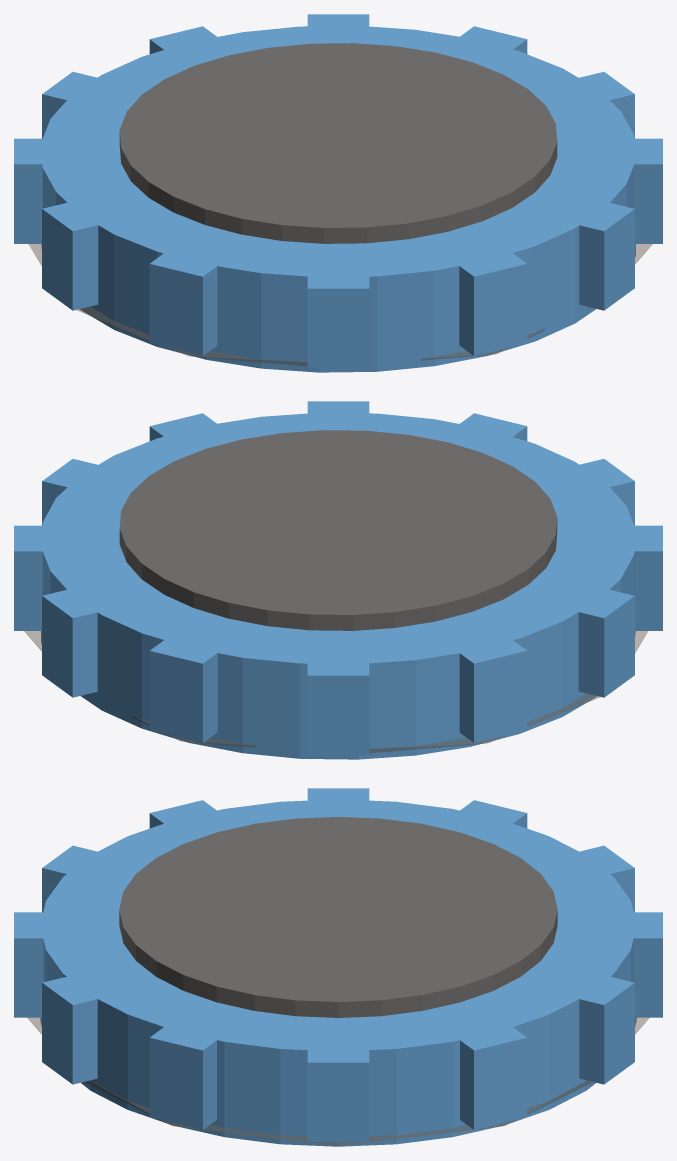
Rendered from env_bottle_cap_blue_v1.glb.
The picture shows the model from 3 angles, top to bottom: view 1: azimuth 30°, elevation 25°; view 2: azimuth 150°, elevation 25°; view 3: azimuth 270°, elevation 25°; orthographic projection.
Parts seen in each view (by area): view 1: cap_outer_rim, cap_inner_recess, cap_ridge_03, cap_ridge_05, cap_ridge_04, cap_ridge_06, cap_ridge_02, cap_ridge_07, cap_ridge_01, cap_shadow, cap_ridge_08, cap_ridge_00 (+3 smaller); view 2: cap_outer_rim, cap_inner_recess, cap_ridge_09, cap_ridge_07, cap_ridge_08, cap_ridge_06, cap_ridge_10, cap_ridge_05, cap_ridge_11, cap_shadow, cap_ridge_04, cap_ridge_00 (+3 smaller); view 3: cap_outer_rim, cap_inner_recess, cap_ridge_01, cap_ridge_11, cap_ridge_00, cap_ridge_10, cap_ridge_02, cap_ridge_03, cap_ridge_09, cap_shadow, cap_ridge_04, cap_ridge_08 (+3 smaller).
Part boxes in pixels (box(x1,y1,x2,y2)): cap_outer_rim: box(41, 25, 635, 372); cap_inner_recess: box(119, 43, 557, 243); cap_ridge_03: box(457, 252, 527, 355); cap_ridge_05: box(149, 253, 217, 355); cap_ridge_04: box(307, 273, 369, 367); cap_ridge_06: box(42, 202, 102, 310); cap_ridge_02: box(579, 201, 634, 310); cap_ridge_07: box(14, 138, 48, 243); cap_ridge_01: box(628, 138, 662, 243); cap_shadow: box(28, 244, 652, 368); cap_ridge_08: box(42, 72, 96, 138); cap_ridge_00: box(574, 72, 634, 138); cap_outer_rim: box(41, 412, 635, 759); cap_inner_recess: box(119, 430, 557, 630); cap_ridge_09: box(149, 638, 219, 742); cap_ridge_07: box(458, 640, 527, 742); cap_ridge_08: box(307, 660, 369, 754); cap_ridge_06: box(574, 589, 634, 697); cap_ridge_10: box(42, 588, 97, 697); cap_ridge_05: box(628, 525, 662, 630); cap_ridge_11: box(14, 525, 48, 630); cap_shadow: box(24, 631, 648, 755); cap_ridge_04: box(580, 459, 634, 525); cap_ridge_00: box(42, 459, 102, 525); cap_outer_rim: box(40, 799, 636, 1146); cap_inner_recess: box(119, 816, 557, 1017); cap_ridge_01: box(149, 1025, 219, 1129); cap_ridge_11: box(457, 1025, 527, 1129); cap_ridge_00: box(307, 1048, 369, 1141); cap_ridge_10: box(579, 975, 634, 1084); cap_ridge_02: box(42, 975, 97, 1084); cap_ridge_03: box(14, 912, 48, 1017); cap_ridge_09: box(628, 912, 662, 1017); cap_shadow: box(27, 1017, 649, 1146); cap_ridge_04: box(42, 845, 101, 912); cap_ridge_08: box(576, 845, 634, 912).
Size of the model in its own units: 0.74 by 0.14 by 0.74.
